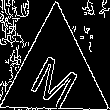M_NE: (27, 39, 84, 106)
